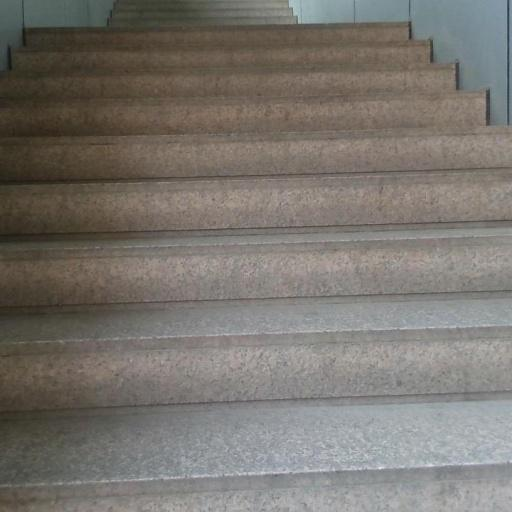stairs: (0, 24, 511, 511), (109, 0, 296, 26)
